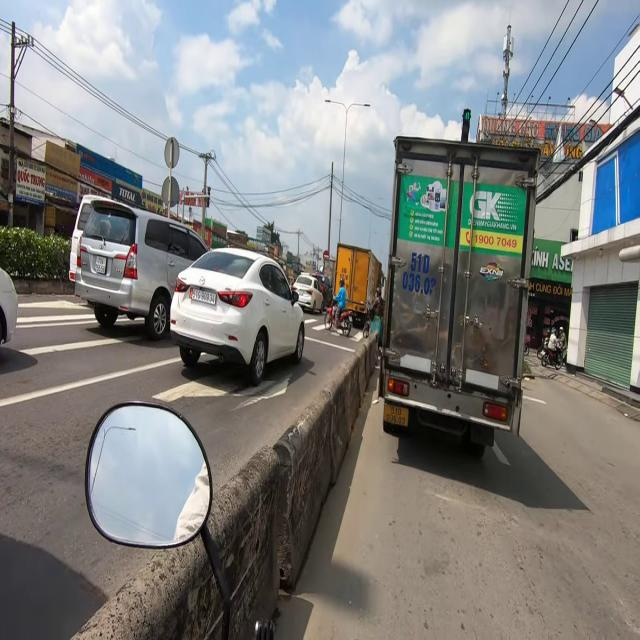bien_trang: (189, 286, 216, 308), (94, 255, 108, 275)
bien_vang: (383, 404, 409, 428)
